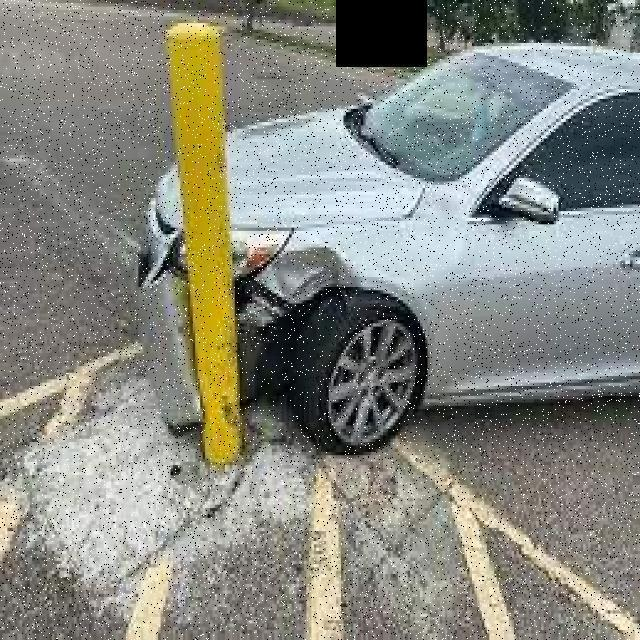vehicle: (135, 21, 640, 498)
